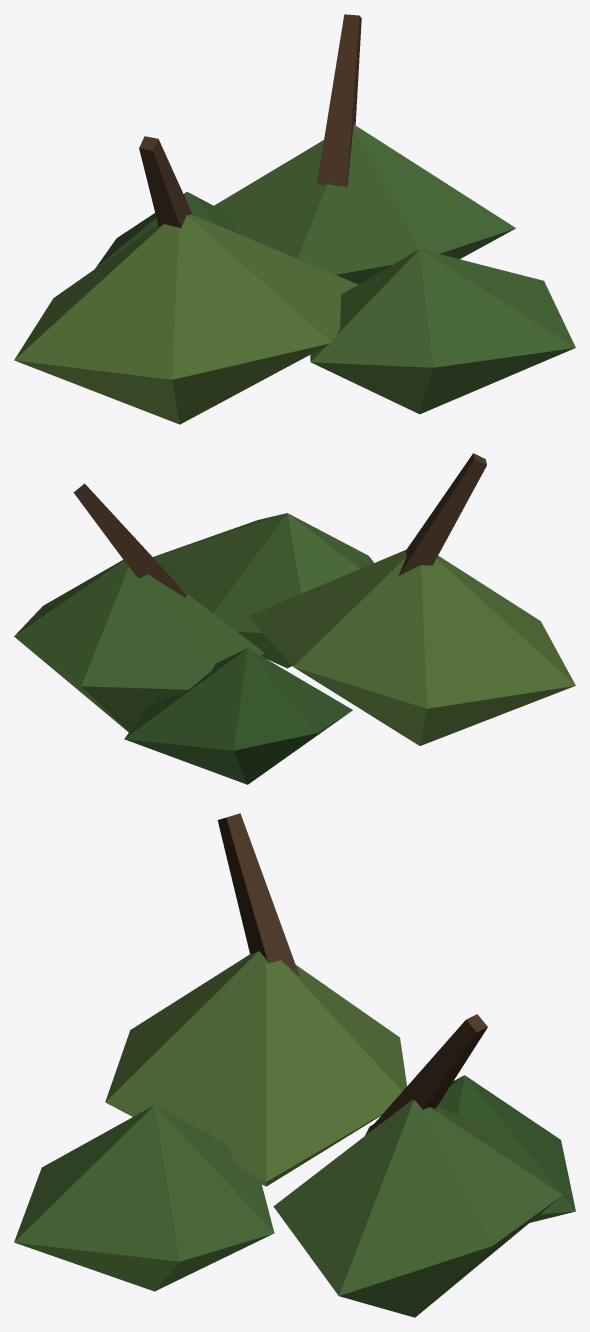
File: bush_b.glb
3 views of the same model, one above another, from view 1: azimuth 30°, elevation 25°; view 2: azimuth 150°, elevation 25°; view 3: azimuth 270°, elevation 25° (orthographic). The views are drawn at different scales.
Parts seen in each view (by area): view 1: mass, mass.002, mass.001, shoot.001, shoot, mass.003; view 2: mass, mass.001, mass.003, mass.002, shoot, shoot.001; view 3: mass, mass.001, mass.002, mass.003, shoot, shoot.001.
Part boxes in pixels (x1,y1,x2,y2): mass: [14, 214, 357, 424]; mass.002: [310, 249, 575, 414]; mass.001: [214, 124, 515, 284]; shoot.001: [317, 14, 361, 186]; shoot: [139, 136, 192, 228]; mass.003: [95, 191, 240, 268]; mass: [248, 550, 575, 745]; mass.001: [14, 559, 264, 732]; mass.003: [124, 648, 352, 784]; mass.002: [153, 513, 373, 668]; shoot: [398, 453, 486, 575]; shoot.001: [73, 483, 186, 597]; mass: [105, 951, 406, 1186]; mass.001: [273, 1099, 562, 1317]; mass.002: [14, 1105, 274, 1291]; mass.003: [365, 1075, 575, 1222]; shoot: [217, 813, 299, 976]; shoot.001: [368, 1014, 487, 1131].
Size of the model in its own units: 28.08 by 15.47 by 22.66.
